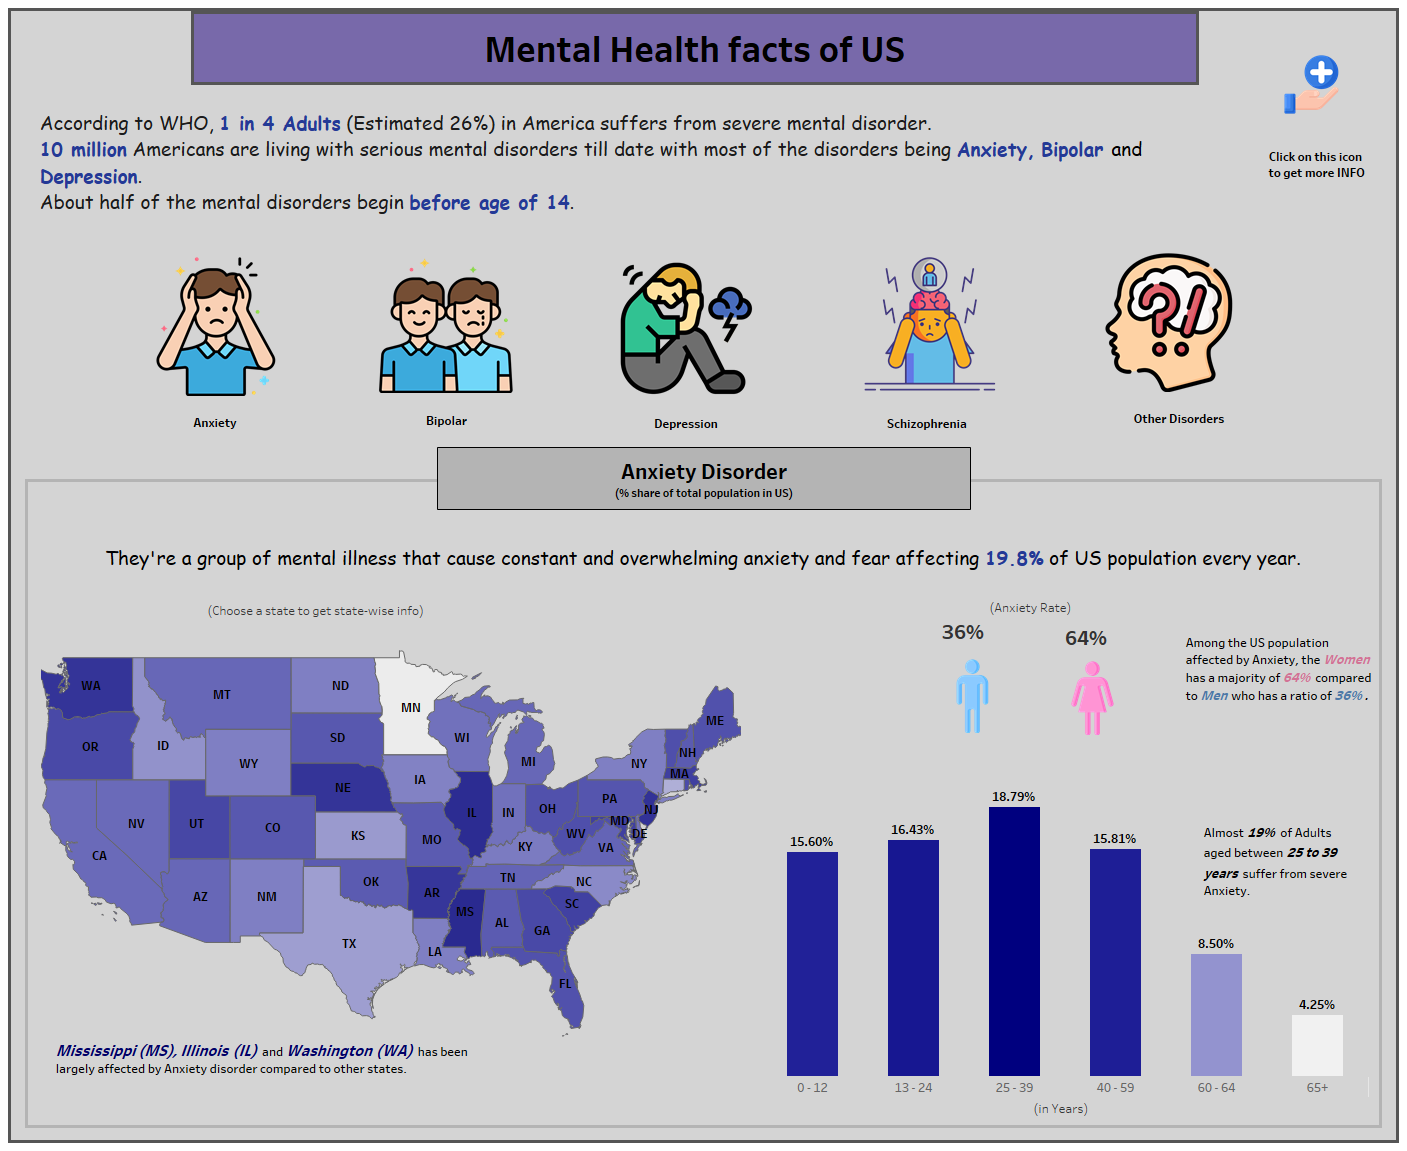

The dashboard page shown, as its layout file describes it:
{"tool":"tableau","page":{"name":"Dashboard 7_1_3","canvas":[1407,1151],"ordinal":2},"visuals":[{"type":"text","box":[241,11,932,71]},{"type":"image","param":"Image/medical-services.png","box":[1279,52,65,64]},{"type":"text","box":[37,89,1118,148]},{"type":"text","box":[1260,121,111,87]},{"type":"dashboard-object","box":[860.2,247.5,139.3,151.5]},{"type":"dashboard-object","box":[1098.8,248.9,139.3,147.4]},{"type":"dashboard-object","box":[377.9,252.9,135,146.1]},{"type":"dashboard-object","box":[616.5,252.9,139.3,150.1]},{"type":"dashboard-object","box":[146,254.3,139.3,144.7]},{"type":"text","box":[1113,400,132,36]},{"type":"text","box":[400.8,400.4,91.7,39.2]},{"type":"text","box":[169,401.7,91.7,40.6]},{"type":"text","box":[871,402,112,42]},{"type":"text","box":[640.2,404.4,91.7,37.9]},{"type":"text","box":[437,452,534,63]},{"type":"filter","title":"Depression_Map","param":"[federated.1oxck0e0dr8f3q0ztqk171cwpb6l].[none:LocationDesc:nk]","box":[22,479,1363,648]},{"type":"blank","box":[27,485,1360,637]},{"type":"text","box":[81,516,1244,84]},{"type":"text","box":[205,581,339,58]},{"type":"text","box":[966,582,155,50]},{"type":"image","param":"Image/female.png","box":[1055,588,74,220]},{"type":"text","box":[1183,592,193,155]},{"type":"image","param":"Image/male.png","box":[935,605,74,188]},{"type":"worksheet","title":"Male_Depression","mark":"Automatic","box":[928,627,118,38]},{"type":"worksheet","title":"Female_Depression","mark":"Automatic","box":[1047,627,106,34]},{"type":"worksheet","title":"Depression_Map","mark":"Multipolygon","box":[30,671,721,414]},{"type":"text","box":[1227,749,151,120]},{"type":"worksheet","title":"Depression_Bar","mark":"Automatic","rows":["BipolarCount (copy)_202943526286426114"],"cols":["Age"],"box":[772,767,600,315]},{"type":"text","box":[39,1039,443,90]},{"type":"text","box":[1034,1076,100,30]}]}

Visuals, with their boxes in screenshot pixels (x1, y1, x2, y2), scaled from the page's 1407x1151 canvas onto the 1407x1151 screenshot:
text: rect(241, 11, 1173, 82)
image: rect(1279, 52, 1344, 116)
text: rect(37, 89, 1155, 237)
text: rect(1260, 121, 1371, 208)
dashboard-object: rect(860, 248, 1000, 399)
dashboard-object: rect(1099, 249, 1238, 396)
dashboard-object: rect(378, 253, 513, 399)
dashboard-object: rect(616, 253, 756, 403)
dashboard-object: rect(146, 254, 285, 399)
text: rect(1113, 400, 1245, 436)
text: rect(401, 400, 492, 440)
text: rect(169, 402, 261, 442)
text: rect(871, 402, 983, 444)
text: rect(640, 404, 732, 442)
text: rect(437, 452, 971, 515)
"Depression_Map" filter: rect(22, 479, 1385, 1127)
blank: rect(27, 485, 1387, 1122)
text: rect(81, 516, 1325, 600)
text: rect(205, 581, 544, 639)
text: rect(966, 582, 1121, 632)
image: rect(1055, 588, 1129, 808)
text: rect(1183, 592, 1376, 747)
image: rect(935, 605, 1009, 793)
"Male_Depression" worksheet: rect(928, 627, 1046, 665)
"Female_Depression" worksheet: rect(1047, 627, 1153, 661)
"Depression_Map" worksheet (Multipolygon marks): rect(30, 671, 751, 1085)
text: rect(1227, 749, 1378, 869)
"Depression_Bar" worksheet: rect(772, 767, 1372, 1082)
text: rect(39, 1039, 482, 1129)
text: rect(1034, 1076, 1134, 1106)
